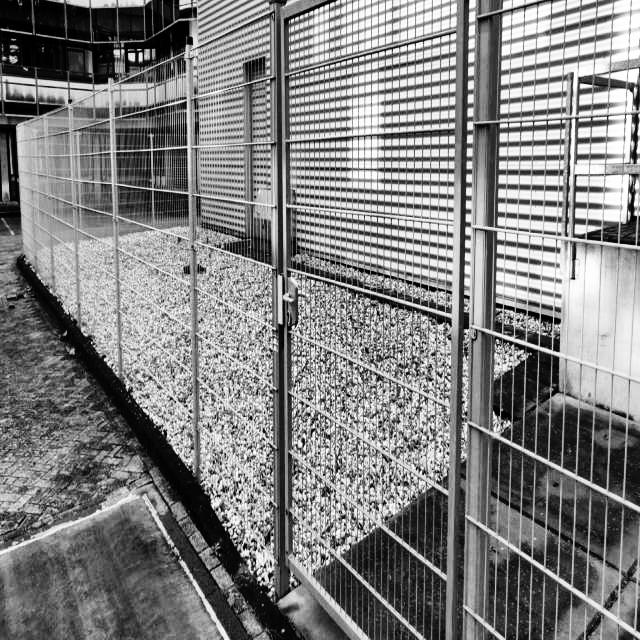fences: (265, 5, 640, 640), (13, 25, 256, 551)
